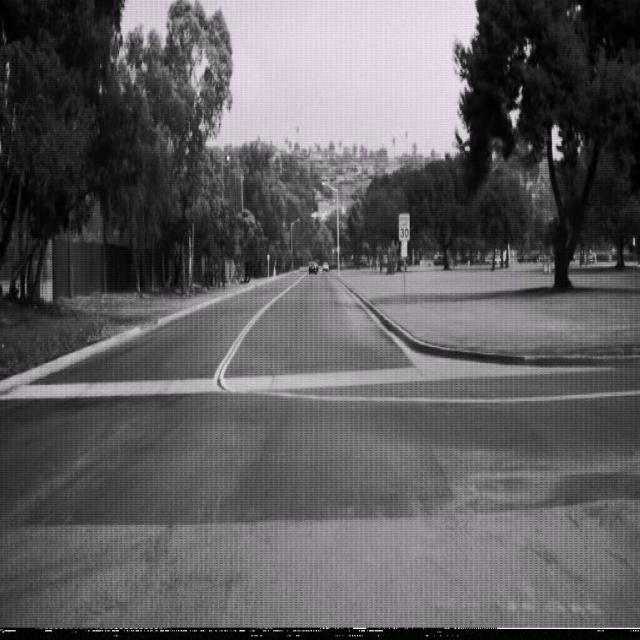speedLimit30: (398, 211, 410, 241)
